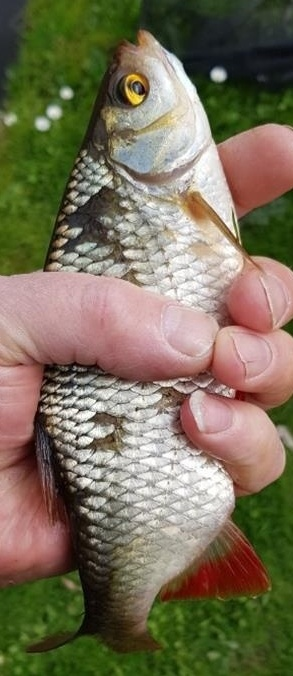Scardinius erythrophthalmus: (20, 20, 273, 656)
